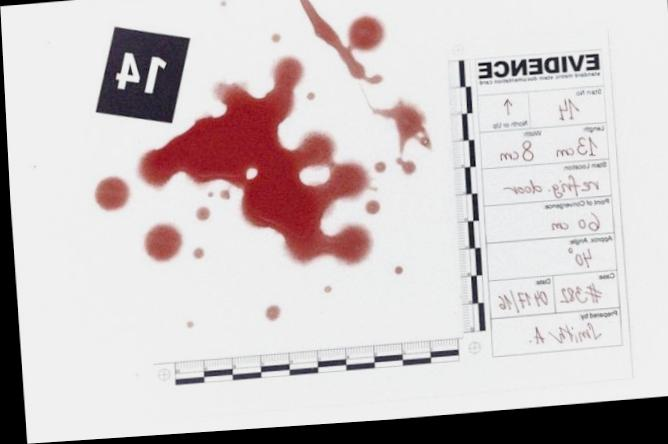Fire: (135, 59, 375, 270), (298, 0, 387, 88), (369, 102, 430, 160), (140, 223, 180, 263), (92, 176, 128, 211), (394, 162, 415, 179), (260, 307, 277, 324), (362, 204, 378, 219), (193, 207, 208, 223), (372, 165, 384, 178)
